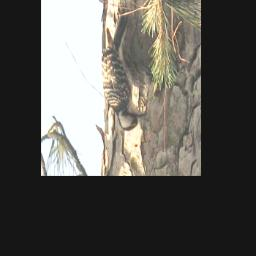Woodpecker: (101, 11, 148, 132)
